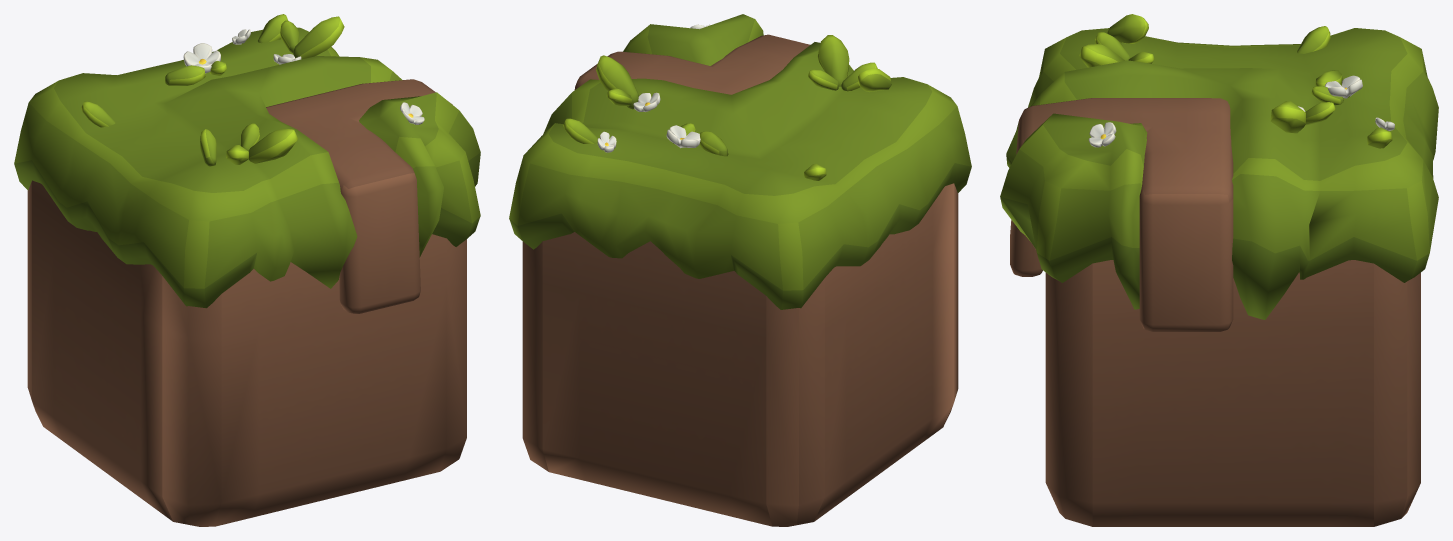
File: Spring12.fbx
3 renders of one model, left to right at view 1: azimuth 30°, elevation 25°; view 2: azimuth 150°, elevation 25°; view 3: azimuth 270°, elevation 25°, orthographic. The views are drawn at different scales.
Visible parts, largest first — view 1: Spring12, Spring_Cube12.001, Road12, Spring_Cube_12.002; view 2: Spring12, Spring_Cube12.001, Spring_Cube_12.002, Road12; view 3: Spring12, Spring_Cube12.001, Road12, Spring_Cube_12.002.
Boxes of the visible parts, bbox=[...] form: Spring12: bbox=[27, 180, 466, 526]; Spring_Cube12.001: bbox=[14, 27, 480, 308]; Road12: bbox=[266, 79, 452, 313]; Spring_Cube_12.002: bbox=[81, 14, 424, 166]; Spring12: bbox=[522, 183, 958, 526]; Spring_Cube12.001: bbox=[509, 14, 971, 309]; Spring_Cube_12.002: bbox=[563, 24, 891, 180]; Road12: bbox=[574, 34, 810, 94]; Spring12: bbox=[1045, 260, 1420, 526]; Spring_Cube12.001: bbox=[1000, 28, 1438, 319]; Road12: bbox=[1010, 98, 1233, 331]; Spring_Cube_12.002: bbox=[1079, 14, 1394, 148].
Bounding box in the file's own units: 114 × 124 × 117.
